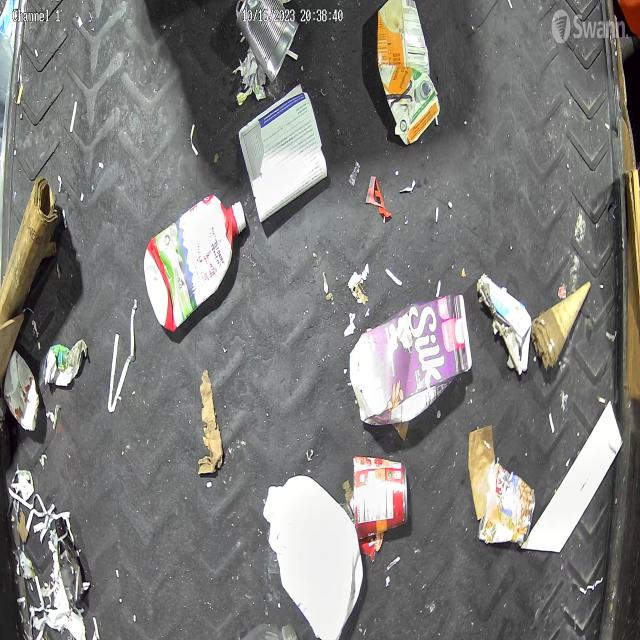can: (348, 449, 414, 543), (228, 0, 306, 74)
milk_jug: (259, 468, 369, 640)
